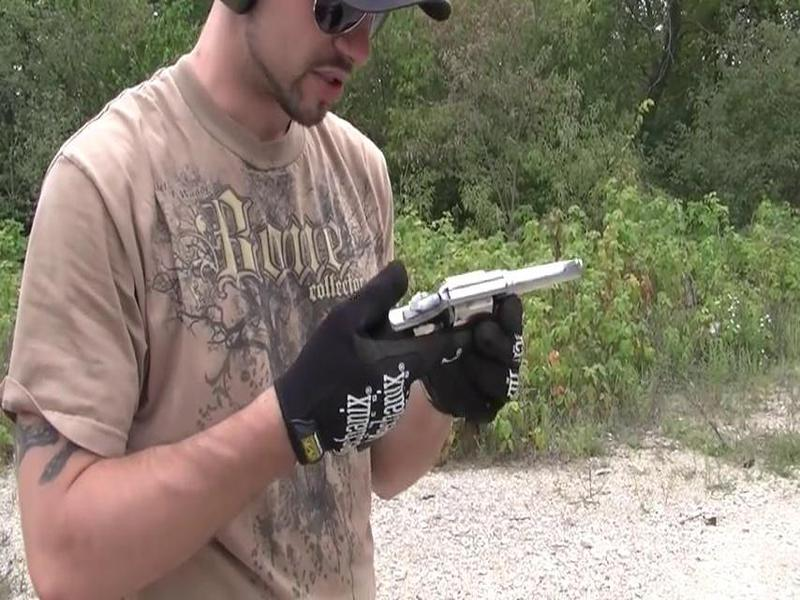Revolver: (378, 242, 606, 338)
